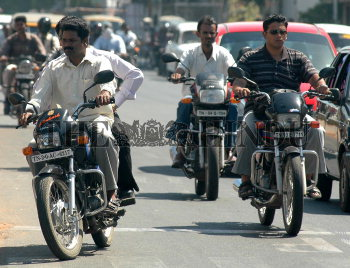no-helmet: (61, 22, 91, 62), (260, 16, 289, 50), (195, 16, 219, 47)
vehicle: (26, 112, 99, 258), (258, 91, 316, 237), (182, 74, 232, 200)
